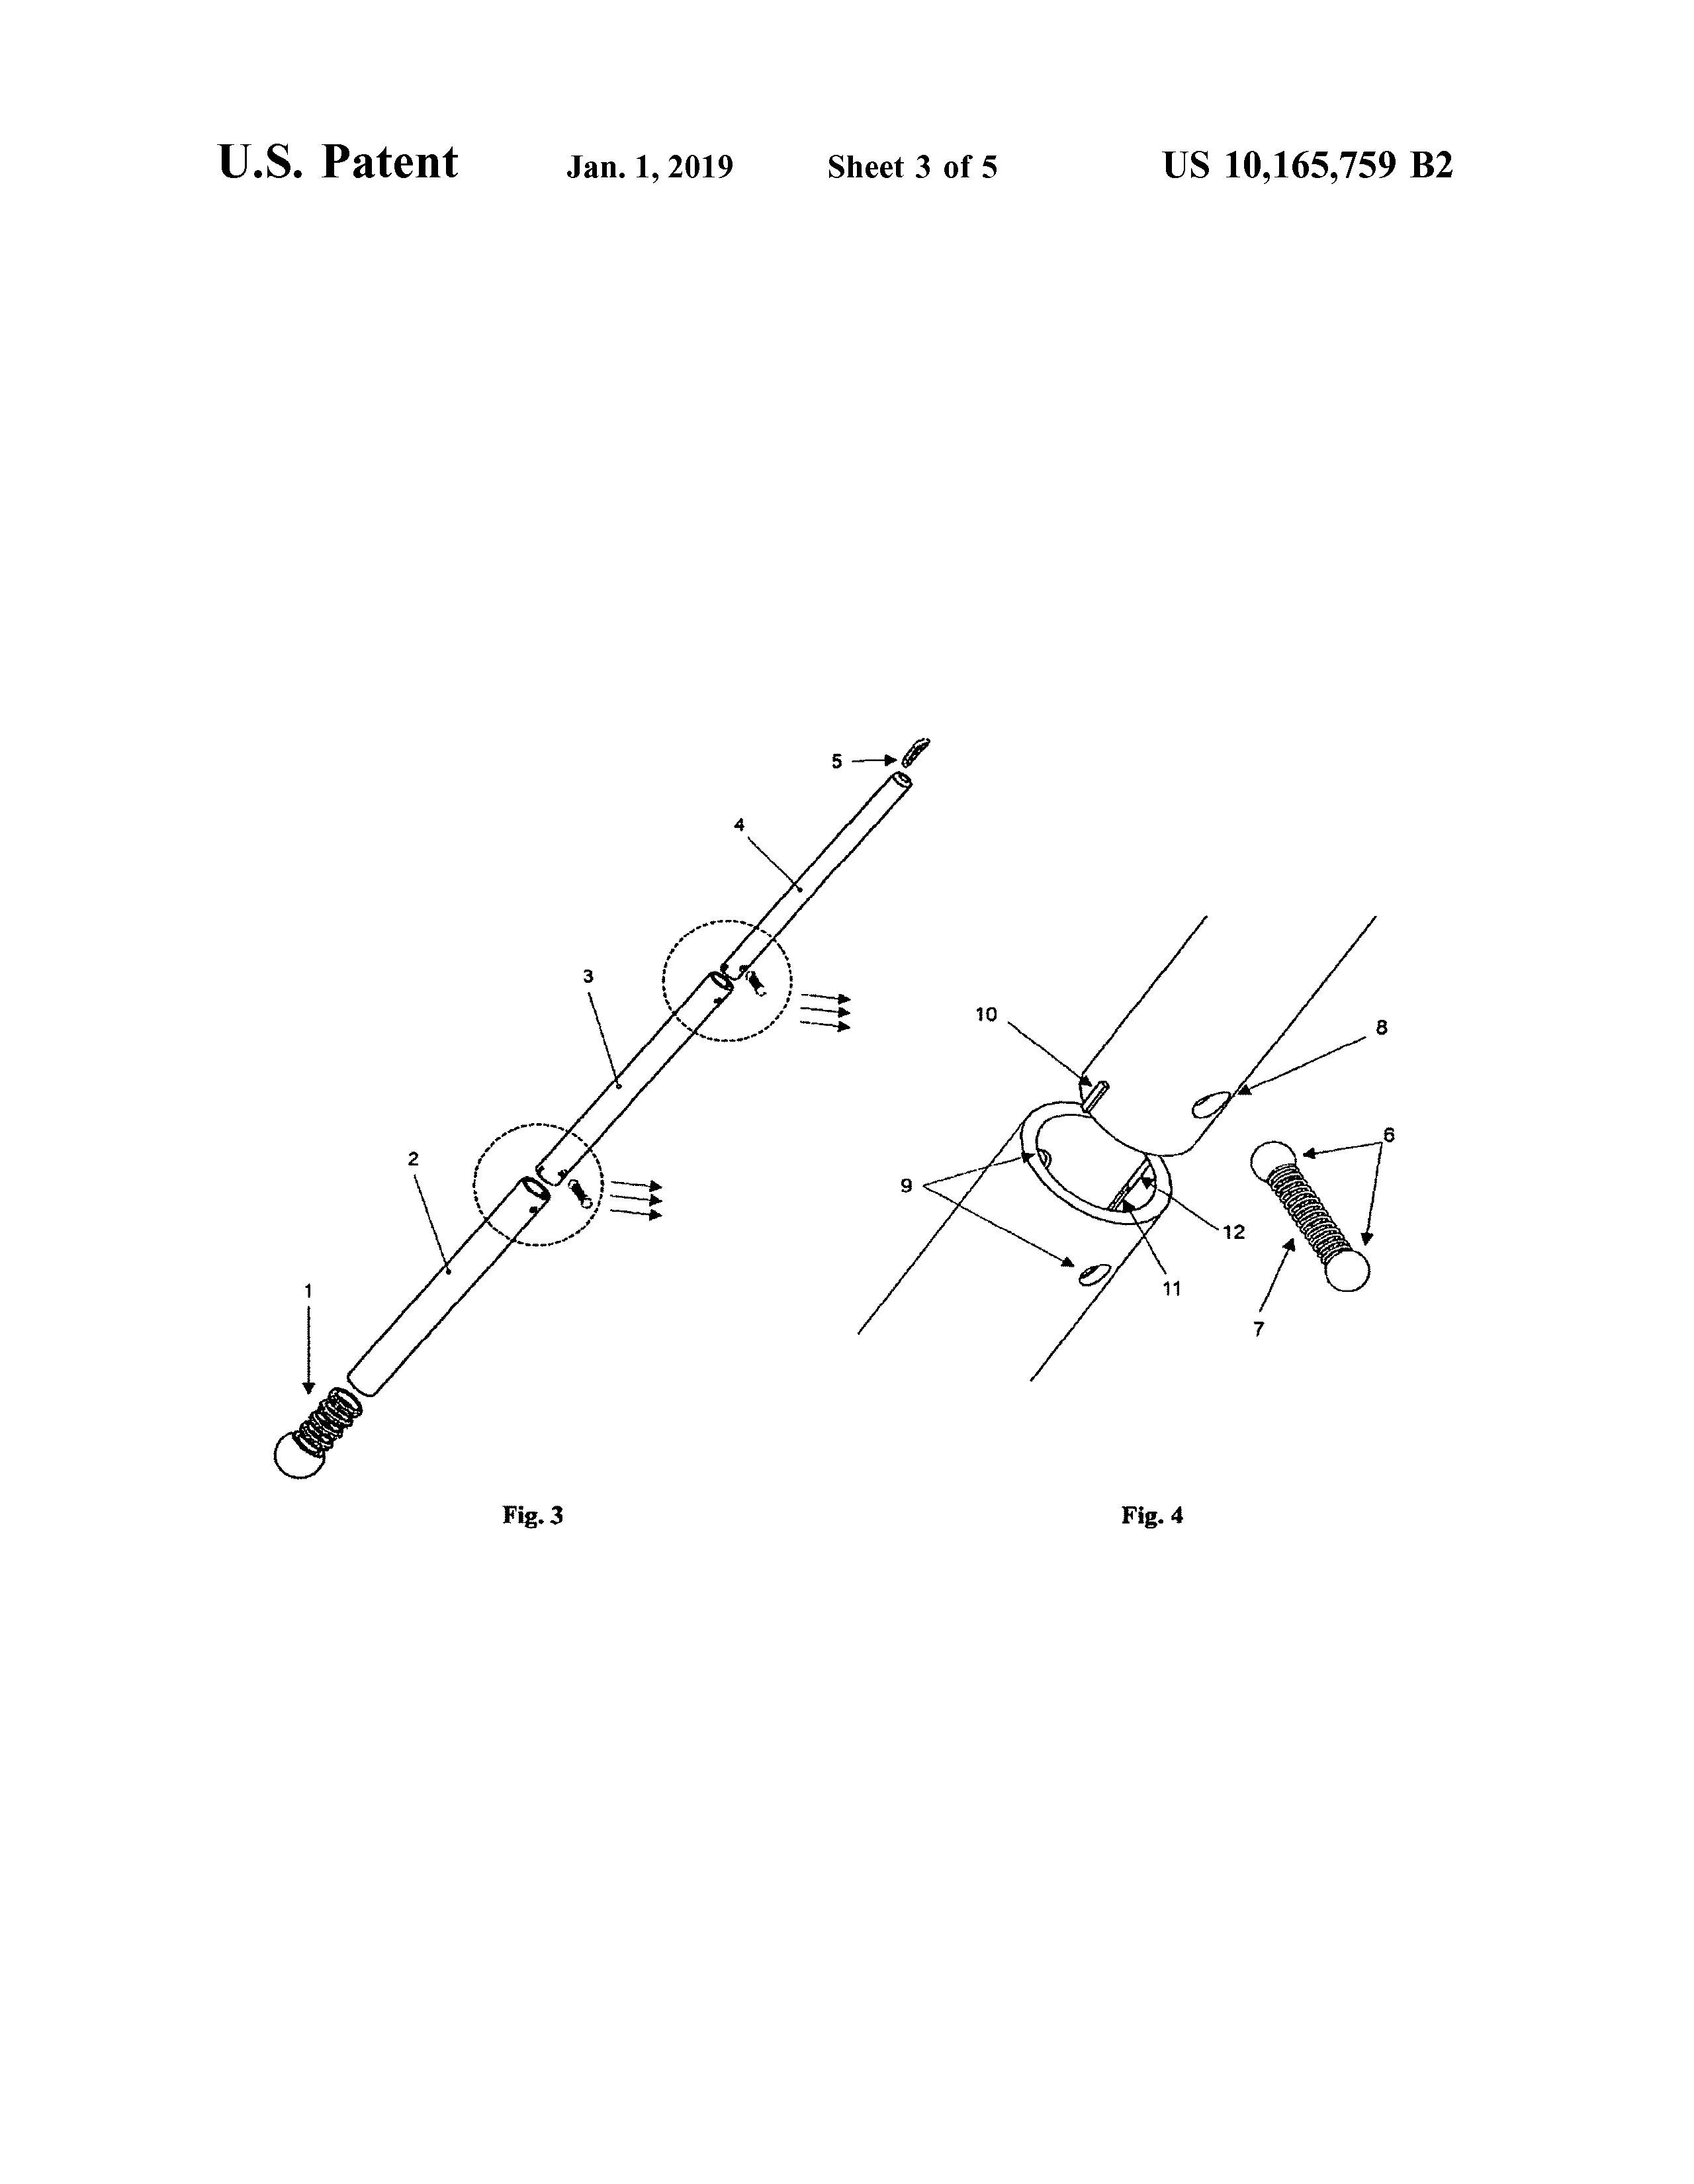patent image: (217, 670, 942, 1541), (843, 899, 1482, 1566)
